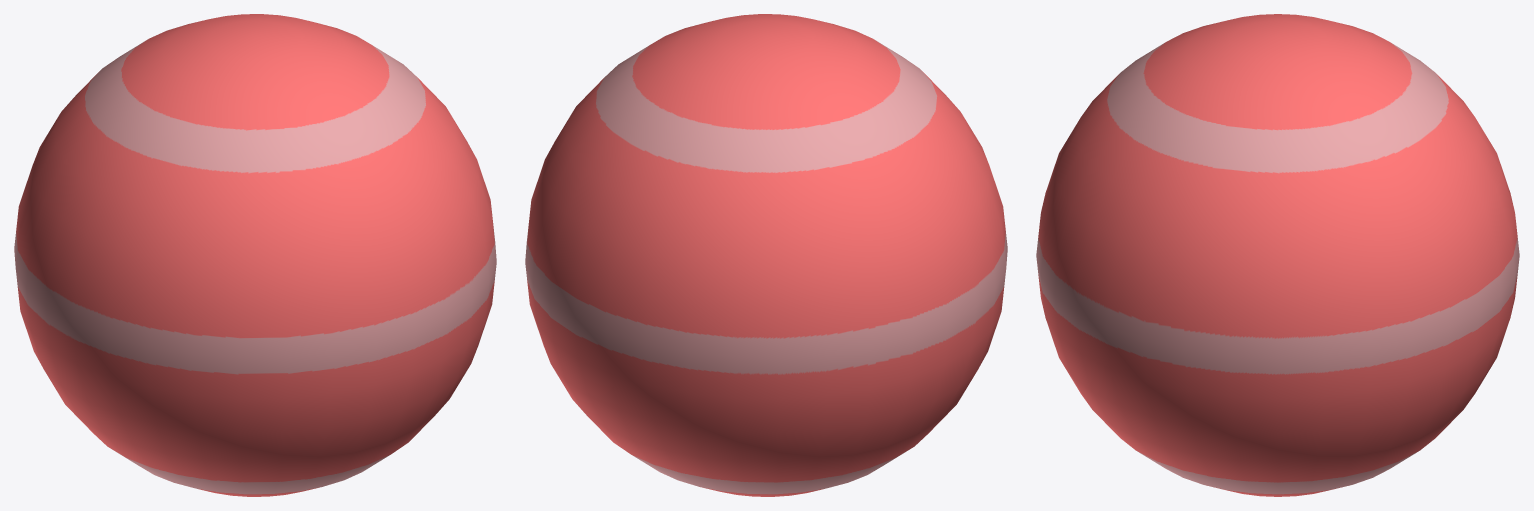
The model's file is bola merah.fbx.
3 views of the same model, side by side, from view 1: azimuth 30°, elevation 25°; view 2: azimuth 150°, elevation 25°; view 3: azimuth 270°, elevation 25° (orthographic).
Visible parts, largest first — view 1: bola merah; view 2: bola merah; view 3: bola merah.
Part boxes in pixels (x1,y1,x2,y2): bola merah: (14, 14, 496, 496); bola merah: (525, 14, 1007, 496); bola merah: (1036, 14, 1519, 496).
Bounding box in the file's own units: 200 × 200 × 200.
Materials: 1 (1 with a texture image).
